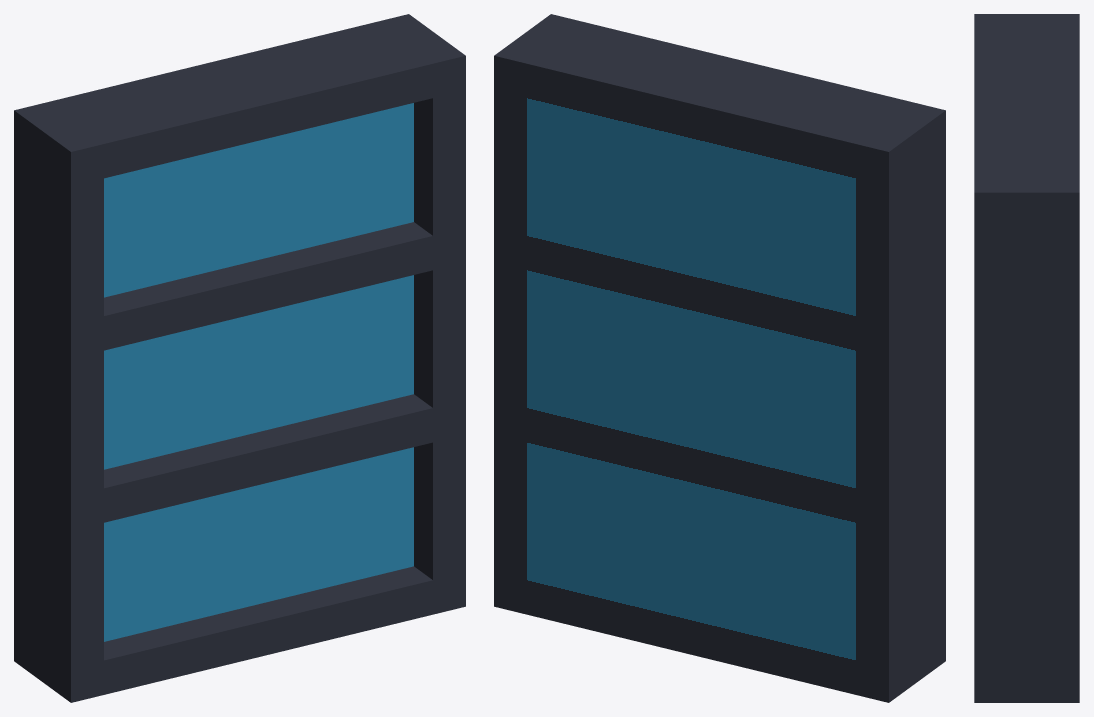
File: Okno_01.dae
3 views of the same model, side by side, from view 1: azimuth 30°, elevation 25°; view 2: azimuth 150°, elevation 25°; view 3: azimuth 270°, elevation 25° (orthographic). The views are drawn at different scales.
Visible parts, largest first — view 1: Content; view 2: Content; view 3: Content.
Part boxes in pixels (<box>): Content: <box>14,14,465,702</box>; Content: <box>494,14,945,702</box>; Content: <box>974,14,1079,702</box>.
Size of the model in its own units: 12 by 16 by 3.
1 material, 1 textured.
